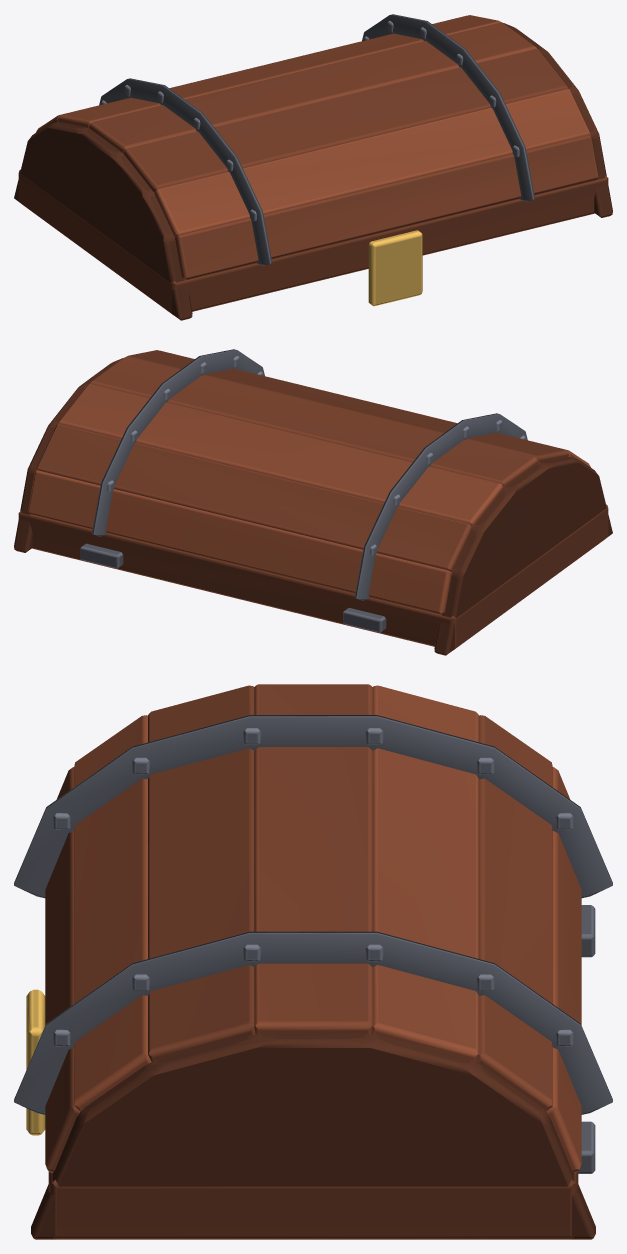
The model's file is chest_pack_lid.glb.
3 renders of one model, top to bottom at view 1: azimuth 30°, elevation 25°; view 2: azimuth 150°, elevation 25°; view 3: azimuth 270°, elevation 25°, orthographic. The views are drawn at different scales.
Visible parts, largest first — view 1: chest_pack_lid_LOD0; view 2: chest_pack_lid_LOD0; view 3: chest_pack_lid_LOD0.
Part boxes in pixels (left/top/right/bottom): chest_pack_lid_LOD0: left=14, top=14, right=612, bottom=320; chest_pack_lid_LOD0: left=14, top=349, right=612, bottom=655; chest_pack_lid_LOD0: left=14, top=684, right=612, bottom=1239.
Size of what is drawn, in the model's own units: 1 by 0.3773 by 0.7012.
